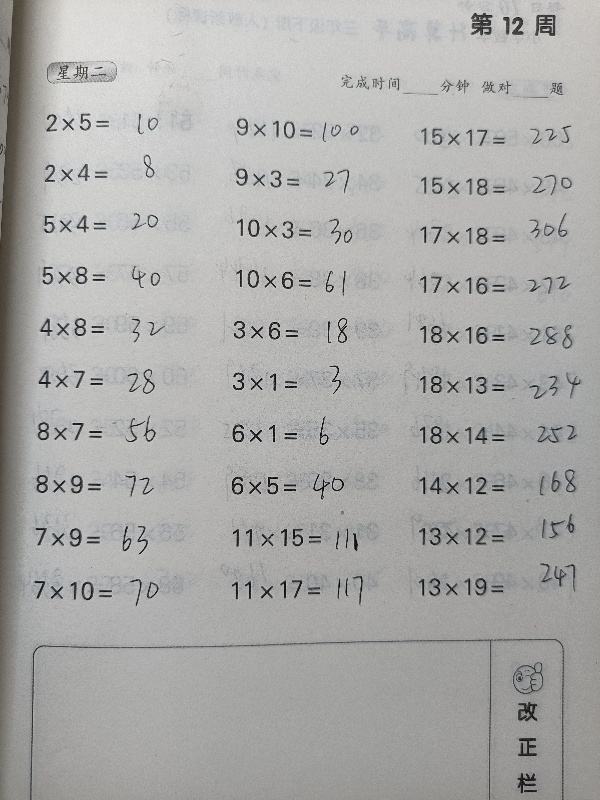equation: (227, 113, 407, 149), (23, 359, 185, 399), (226, 157, 363, 203), (27, 520, 207, 555), (27, 467, 207, 502), (25, 573, 205, 607), (222, 572, 402, 606), (411, 570, 591, 604), (223, 469, 403, 503), (412, 418, 592, 452), (29, 414, 209, 448), (223, 364, 403, 398), (224, 313, 404, 347), (411, 269, 591, 303), (227, 262, 407, 296), (34, 259, 214, 293), (227, 212, 407, 246), (39, 302, 176, 346), (224, 521, 404, 554), (410, 520, 590, 553), (408, 469, 588, 502), (410, 368, 590, 401), (410, 318, 590, 351), (411, 219, 591, 252), (411, 170, 591, 203), (36, 201, 172, 244), (411, 121, 591, 153), (224, 410, 361, 451), (40, 151, 179, 190), (39, 103, 175, 140)
